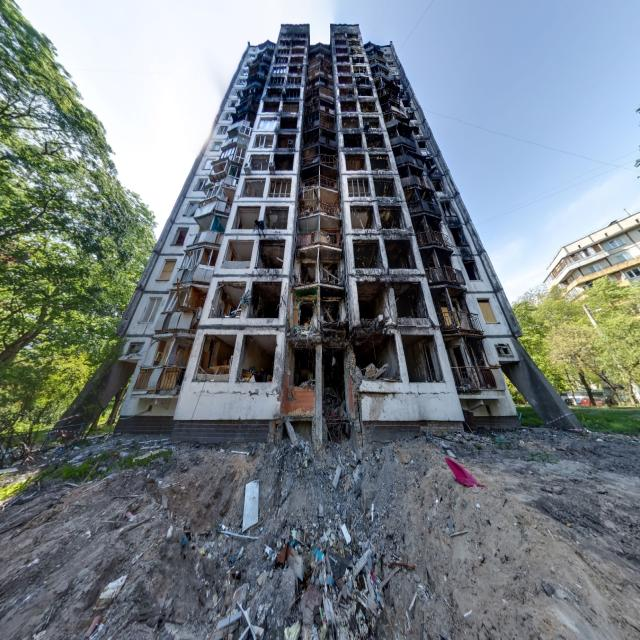broken_window: (141, 295, 161, 321), (157, 261, 176, 281), (172, 226, 189, 246), (185, 201, 199, 217), (195, 176, 208, 193), (202, 157, 216, 167), (218, 125, 228, 134), (213, 143, 221, 151), (224, 111, 232, 118), (230, 99, 235, 104)
building: (84, 24, 584, 439)
damage: (116, 24, 584, 433)
other: (0, 0, 640, 640), (0, 0, 87, 640)
roof: (281, 24, 328, 45), (330, 23, 367, 45), (328, 24, 332, 48), (372, 40, 382, 47), (382, 41, 390, 49), (277, 28, 281, 43), (262, 37, 274, 42), (249, 41, 262, 45), (367, 40, 372, 43)
